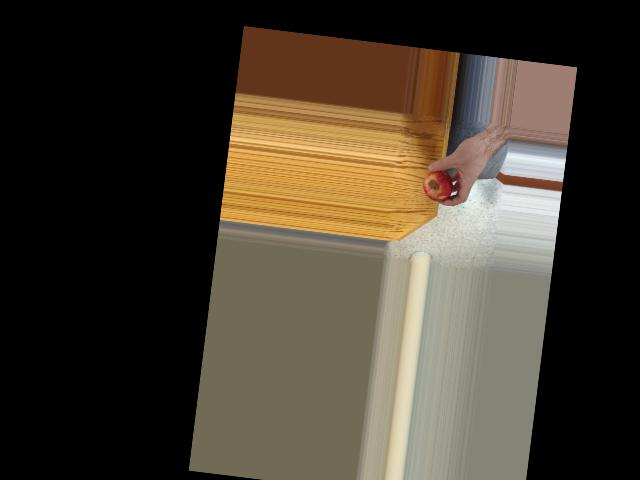apple: (421, 166, 454, 204)
